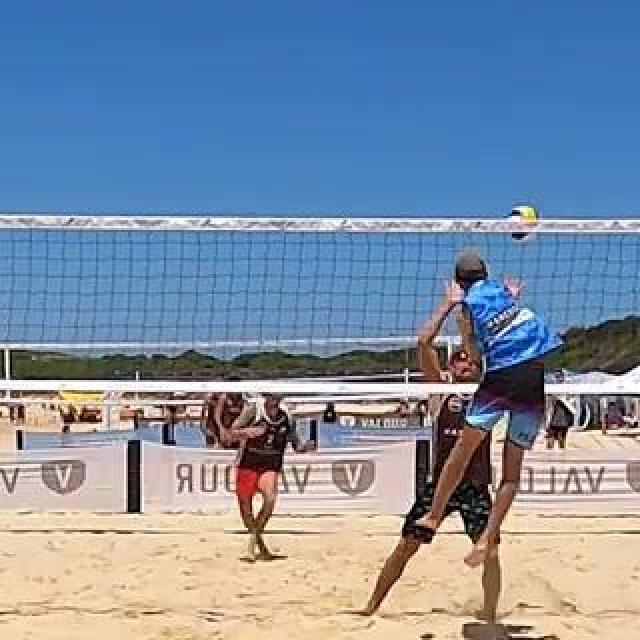volleyball: (508, 205, 540, 241)
